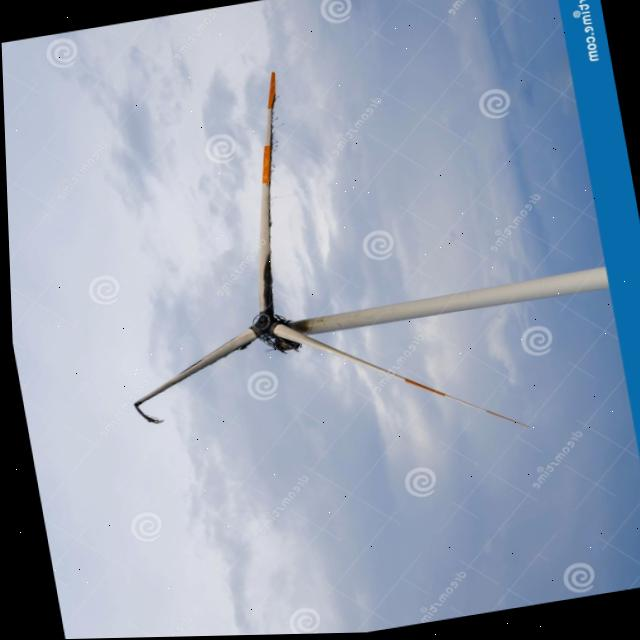damaged-blade: (271, 324, 521, 427), (130, 329, 254, 423)
